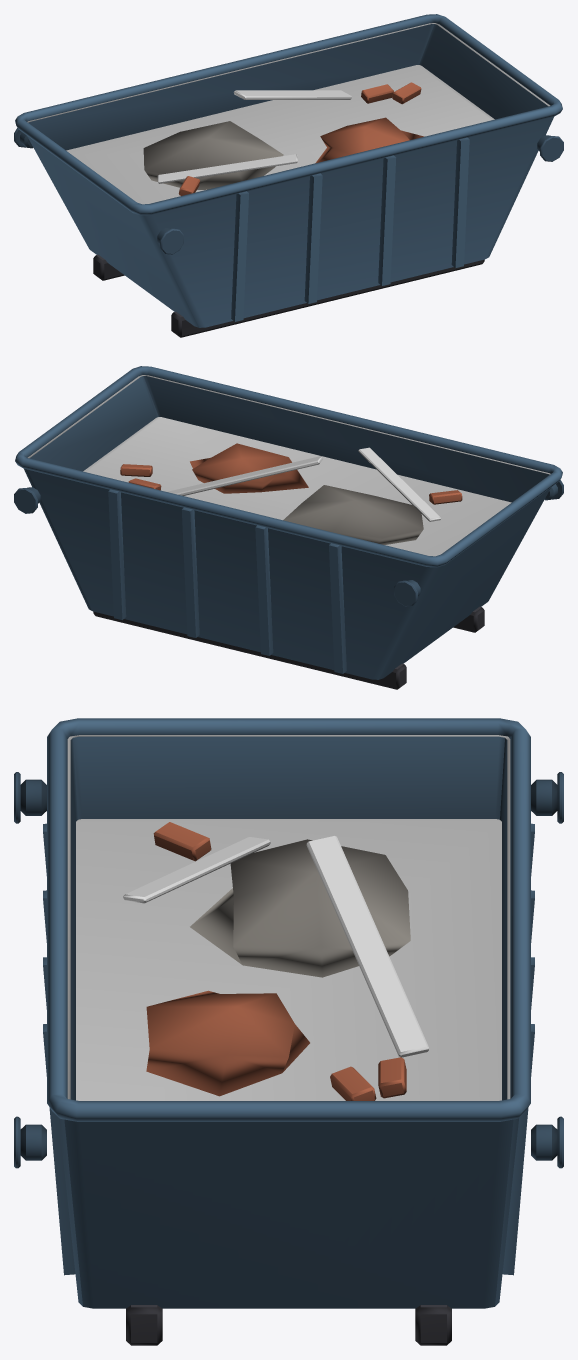
The model's file is Skip.fbx.
The picture shows the model from 3 angles, top to bottom: view 1: azimuth 30°, elevation 25°; view 2: azimuth 150°, elevation 25°; view 3: azimuth 270°, elevation 25°; orthographic projection. The views are drawn at different scales.
Visible parts, largest first — view 1: Skip; view 2: Skip; view 3: Skip.
Boxes of the visible parts, box(x1,y1,x2,y2) form: Skip: box(14, 14, 563, 337); Skip: box(14, 366, 563, 689); Skip: box(14, 718, 563, 1345).
Bounding box in the file's own units: 3.52 × 1.41 × 2.09.
